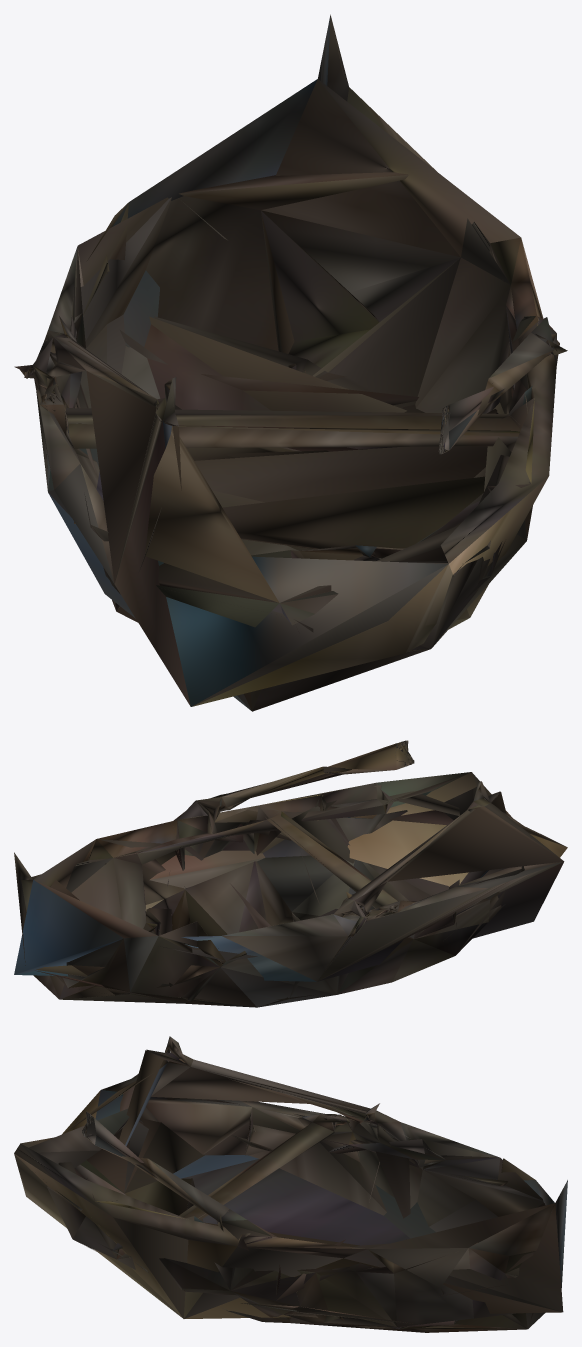
File: prop_boat_row_01.glb
3 views of the same model, one above another, from view 1: azimuth 30°, elevation 25°; view 2: azimuth 150°, elevation 25°; view 3: azimuth 270°, elevation 25° (orthographic). The views are drawn at different scales.
Parts seen in each view (by area): view 1: geometry_0; view 2: geometry_0; view 3: geometry_0.
Part boxes in pixels (x1,y1,x2,y2): geometry_0: (14,14,567,711); geometry_0: (14,740,567,1007); geometry_0: (14,1036,567,1332).
Size of the model in its own units: 0.7729 by 0.3767 by 0.98.
Materials: 1 (1 with a texture image).
